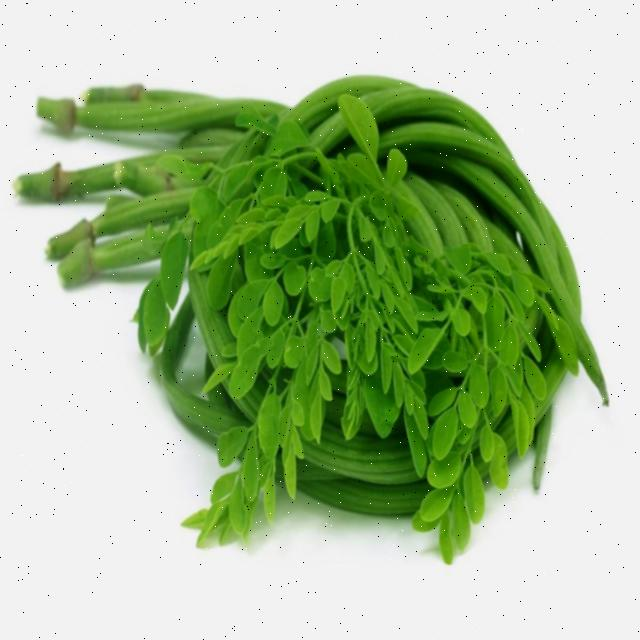Moringa Drumsticks: (49, 72, 586, 314)
